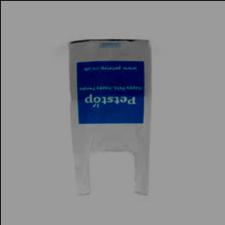Plastic: (64, 32, 155, 206)
